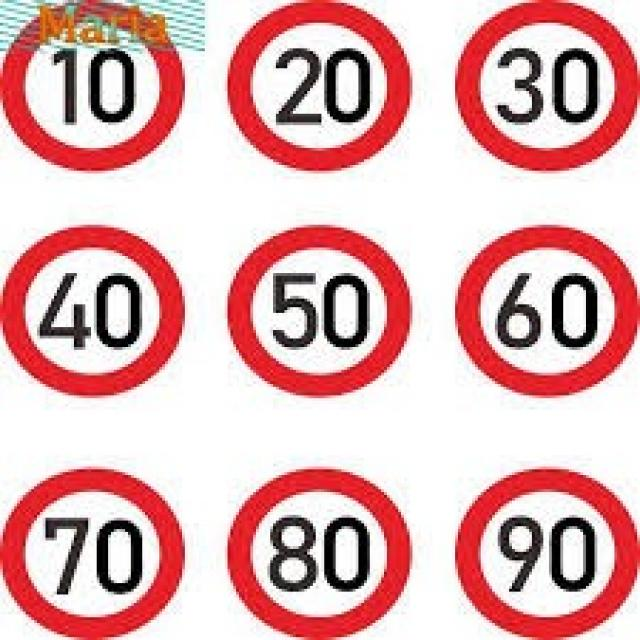speed_limit_20: (217, 0, 415, 181)
